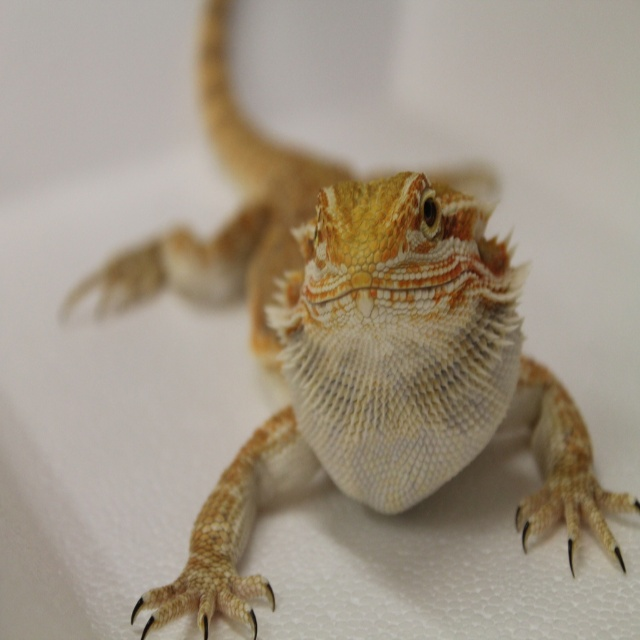Lizard: (62, 1, 636, 639)
